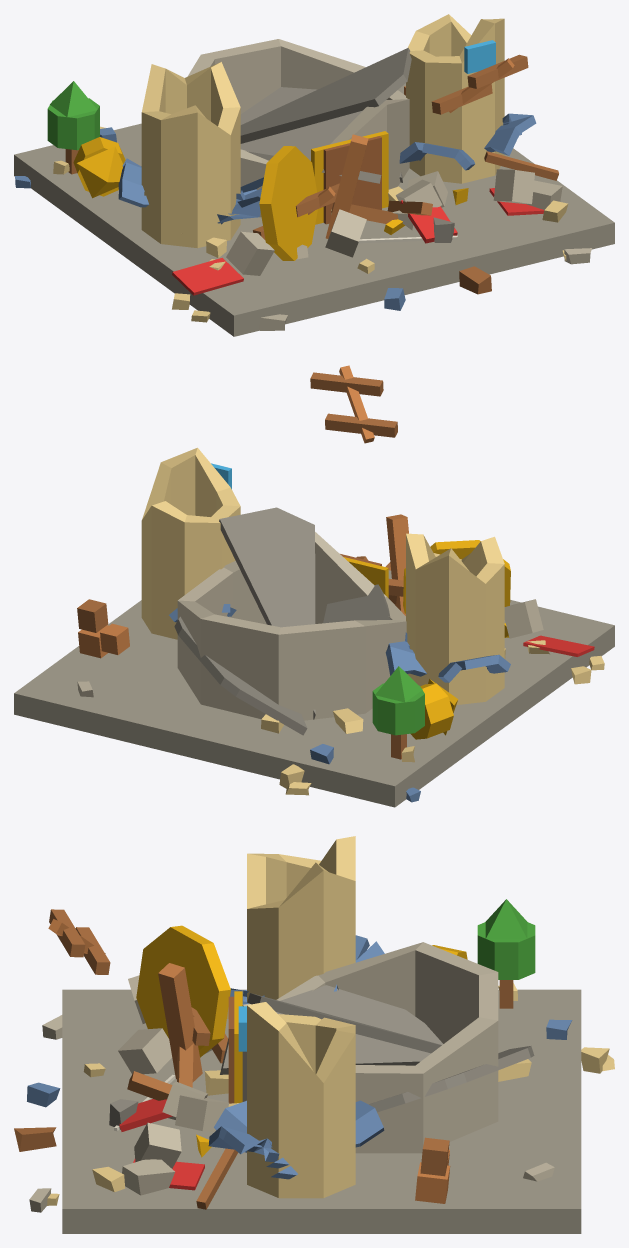
The model's file is defense_tower_t3_v2_dmg2.glb.
3 renders of one model, top to bottom at view 1: azimuth 30°, elevation 25°; view 2: azimuth 150°, elevation 25°; view 3: azimuth 270°, elevation 25°, orthographic. The views are drawn at different scales.
Parts seen in each view (by area): view 1: defense_tower_t3_v2_dmg2; view 2: defense_tower_t3_v2_dmg2; view 3: defense_tower_t3_v2_dmg2.
Boxes of the visible parts, x1,y1,x2,y2 form: defense_tower_t3_v2_dmg2: (14, 14, 614, 336); defense_tower_t3_v2_dmg2: (14, 365, 614, 807); defense_tower_t3_v2_dmg2: (14, 836, 614, 1233).
Size of the model in its own units: 0.7942 by 0.4001 by 0.8684.
Materials: 1 (1 with a texture image).
